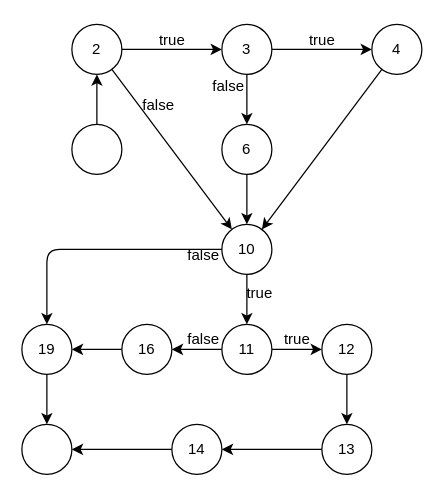
The diagram is 444 pixels wide and 496 high, and some of its shapes have lost their labels. Each missing label, with the centre of its shape:
"nf" belongs at point 46,448.
"ni" belongs at point 96,148.
